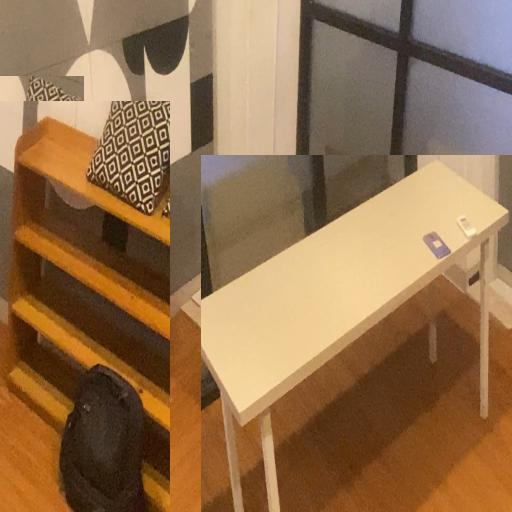bantal: (0, 76, 83, 215)
hp: (258, 227, 296, 261)
lemari: (0, 101, 170, 512)
meja: (201, 155, 512, 512)
remote AC: (234, 207, 259, 249)
tas ransel: (22, 357, 117, 512)
